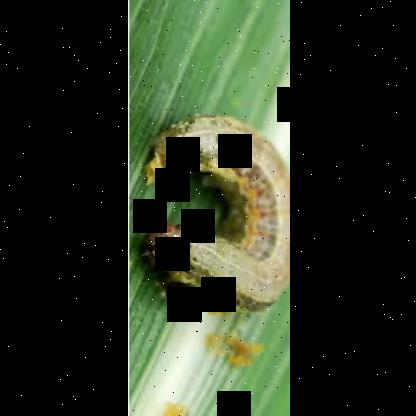oruga: (137, 117, 289, 309)
